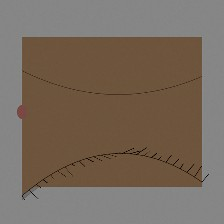hemorrhage_spot: (59, 76, 121, 125)
